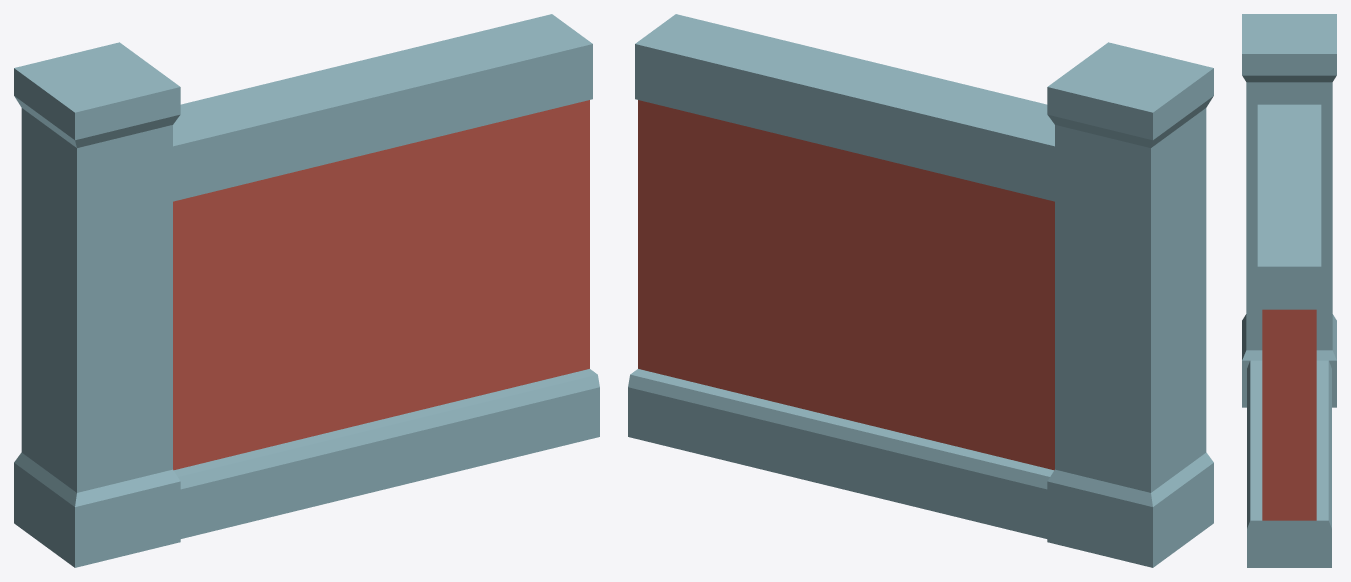
File: brickWallEnd.obj
3 renders of one model, left to right at view 1: azimuth 30°, elevation 25°; view 2: azimuth 150°, elevation 25°; view 3: azimuth 270°, elevation 25°, orthographic. The views are drawn at different scales.
Parts seen in each view (by area): view 1: brickWallEnd; view 2: brickWallEnd; view 3: brickWallEnd.
Part boxes in pixels (box(x1,y1,x2,y2)): brickWallEnd: box(14, 14, 599, 567); brickWallEnd: box(628, 14, 1213, 567); brickWallEnd: box(1242, 14, 1336, 567).
Size of the model in its own units: 1 by 0.8239 by 0.2.
